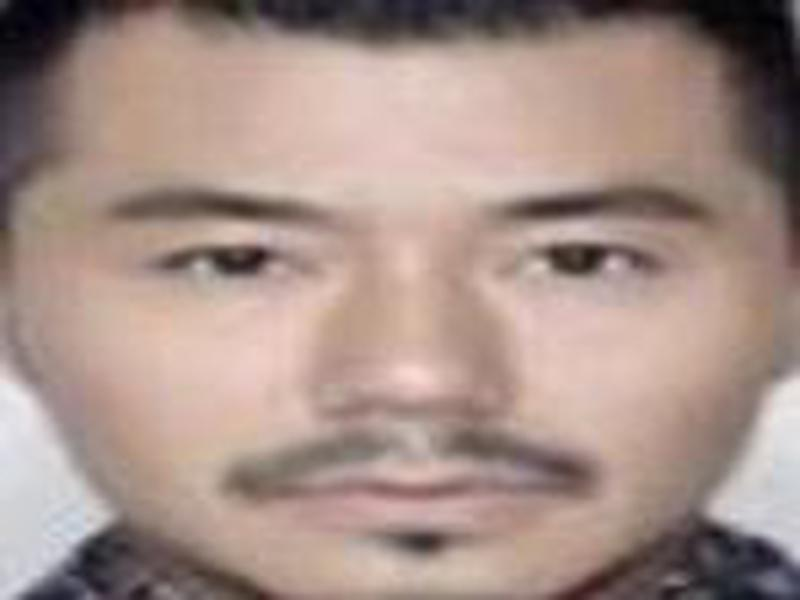without_mask: (48, 31, 763, 593)
